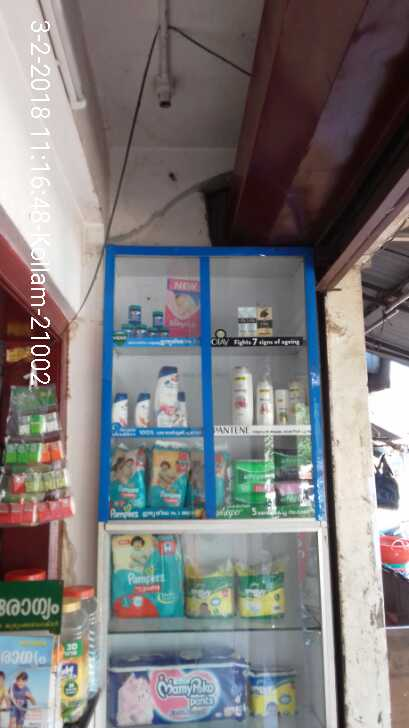vicks: (119, 302, 173, 339)
